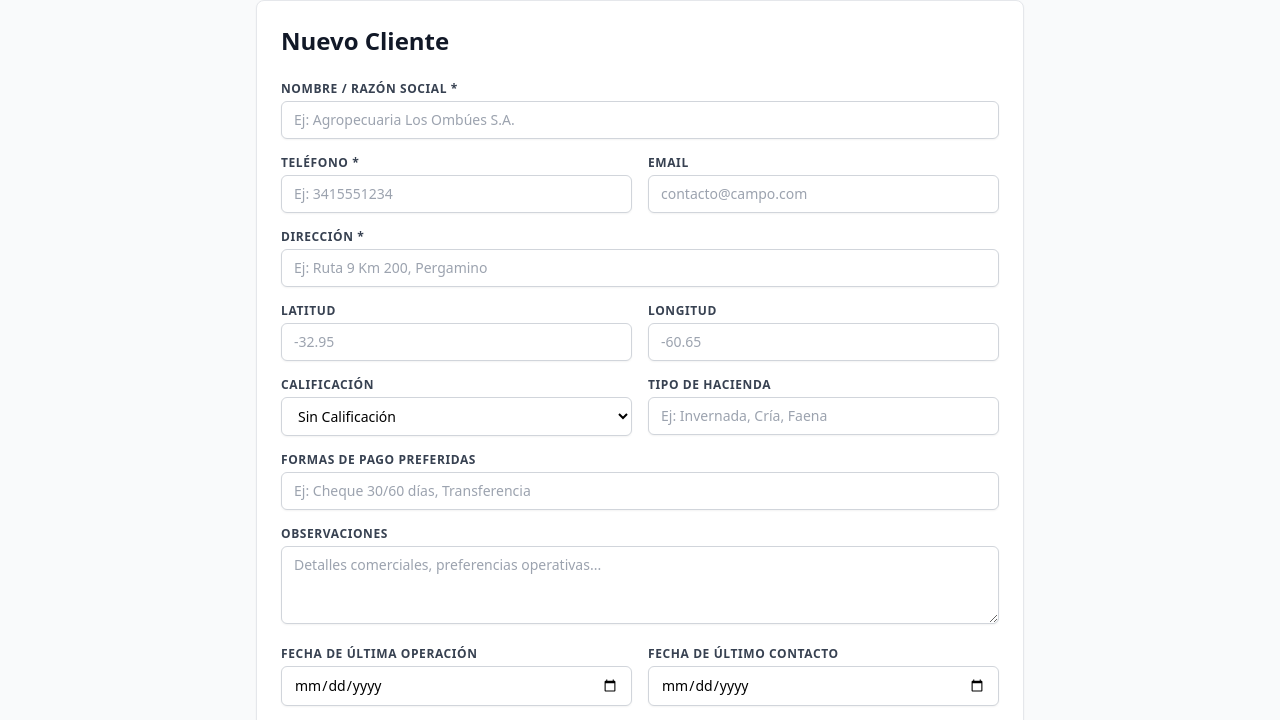
ClientesPage › shows Toast with "✅ Cliente guardado" and navigates to lista when ClienteForm successfully creates a client
Type "Estancia Creada S.A." into the field labelled "Nombre / Razón Social *" at (640, 120), box [281, 101, 999, 139]
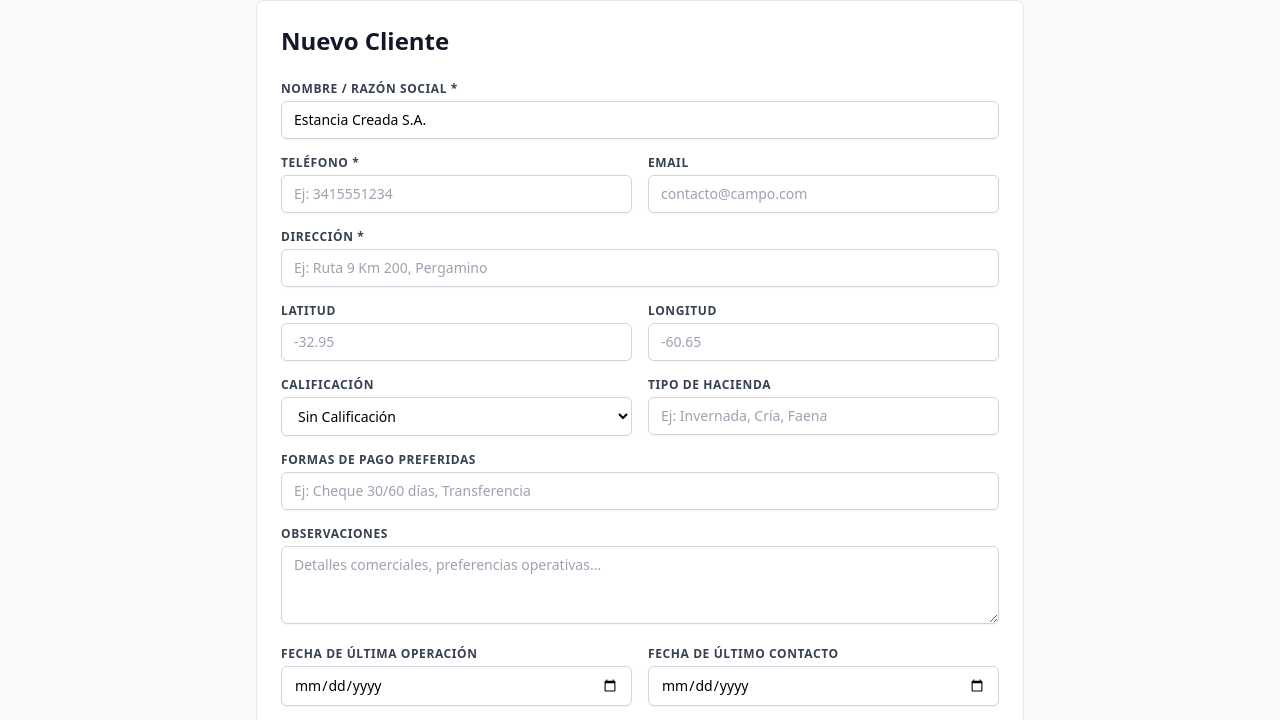
Type "3415554321" into the field labelled "Teléfono *" at (456, 194), box [281, 175, 632, 213]
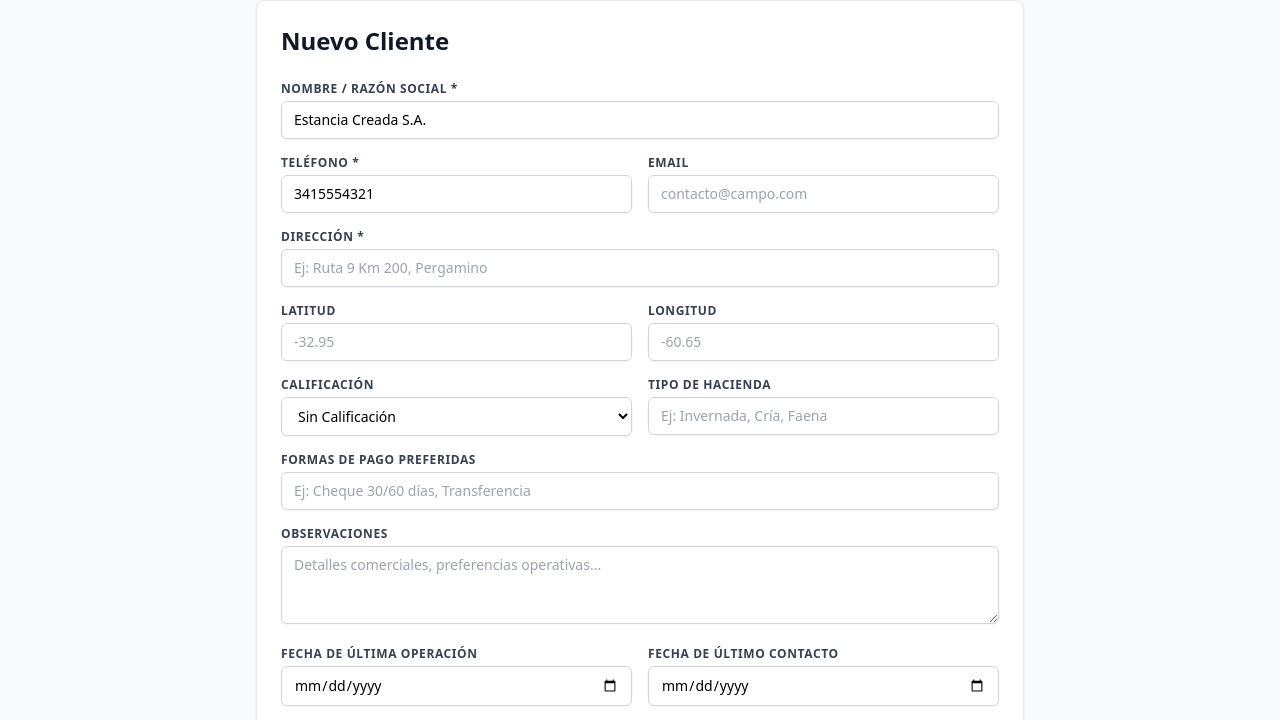
Type "Ruta 33 Km 50" into the field labelled "Dirección *" at (640, 268), box [281, 249, 999, 287]
(page scrolled)
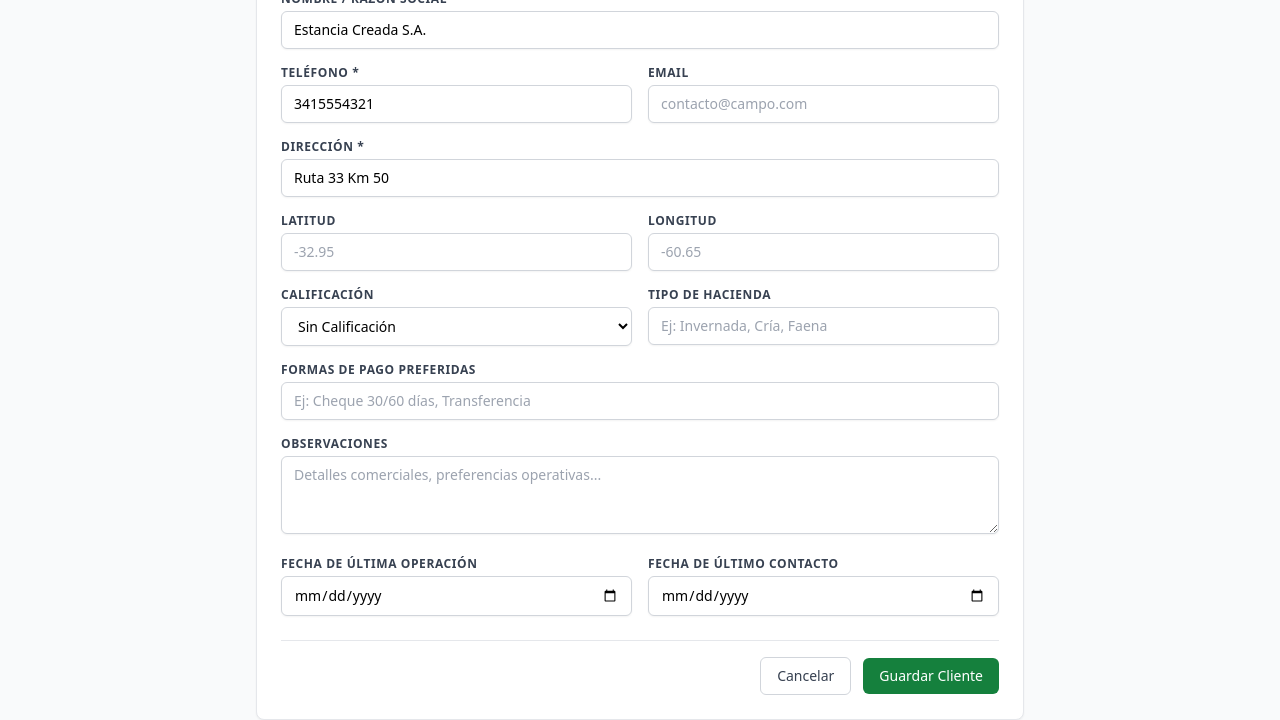
Click the button "Guardar Cliente" at (931, 676), box [863, 658, 999, 694]
(page scrolled)
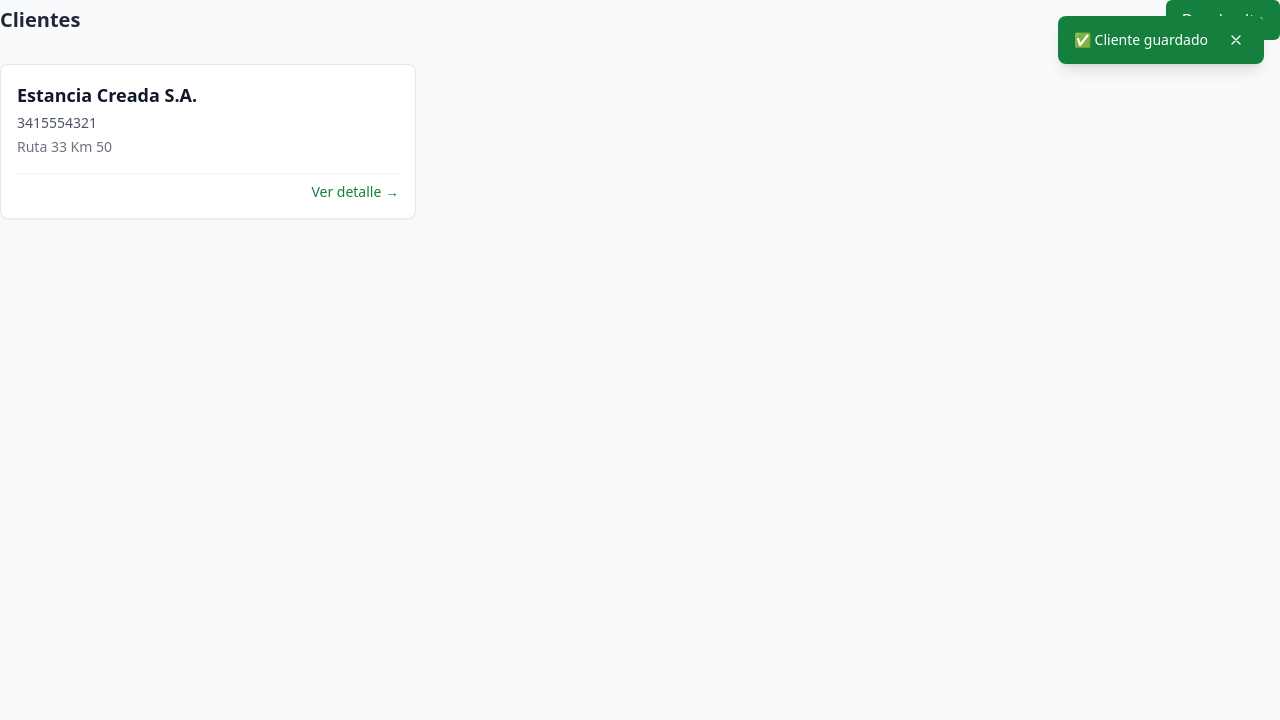
Expected: the text "✅ Cliente guardado" is shown, [1074, 30, 1208, 50]
Expected: the heading "Clientes" is shown, [0, 6, 80, 34]
